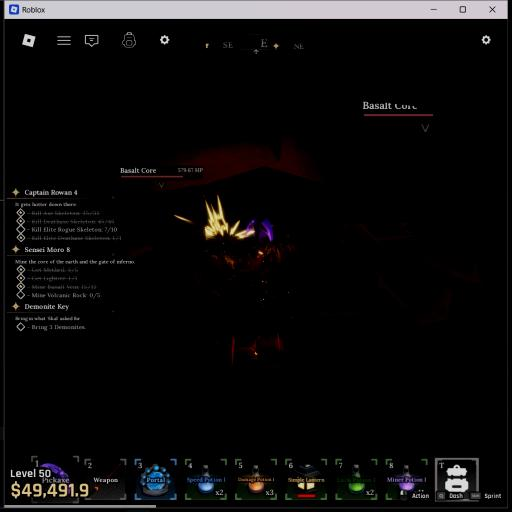player: (161, 231, 345, 347)
rock: (284, 223, 486, 391), (107, 216, 205, 351)
